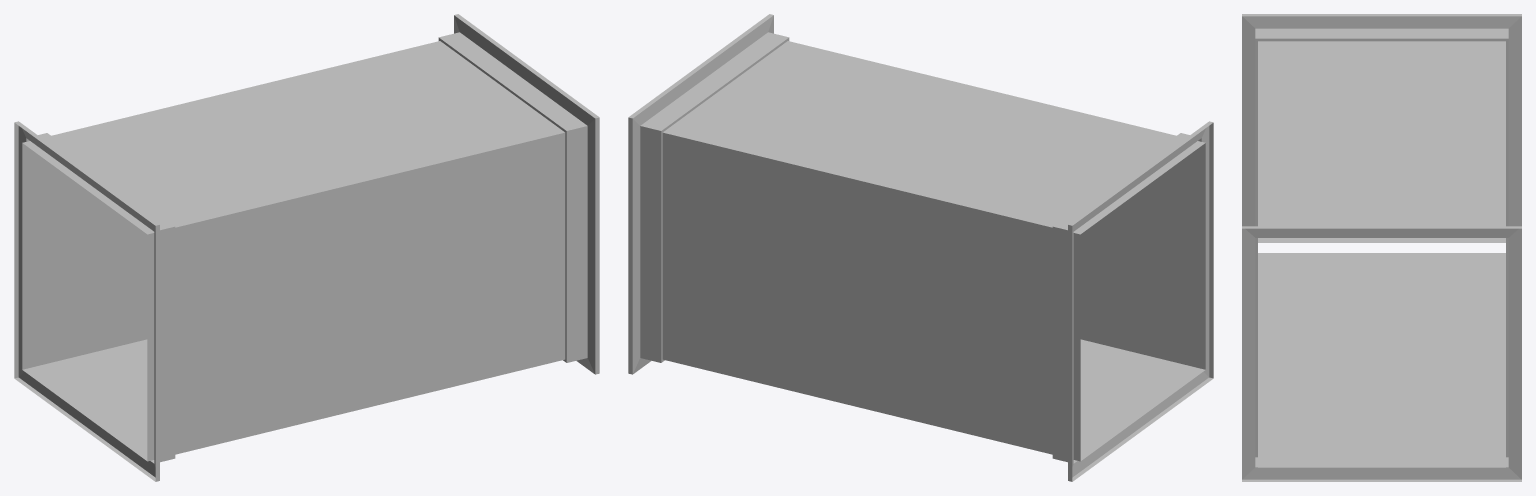
Rendered from SM_Airing_100.FBX.
The picture shows the model from 3 angles, left to right: view 1: azimuth 30°, elevation 25°; view 2: azimuth 150°, elevation 25°; view 3: azimuth 270°, elevation 25°; orthographic projection.
Visible parts, largest first — view 1: SM_Airing_100; view 2: SM_Airing_100; view 3: SM_Airing_100.
Boxes of the visible parts, x1,y1,x2,y2 form: SM_Airing_100: (14, 14, 599, 481); SM_Airing_100: (628, 14, 1213, 481); SM_Airing_100: (1242, 14, 1521, 481).
Bounding box in the file's own units: 102 × 56.42 × 56.42.
1 material, 1 textured.
